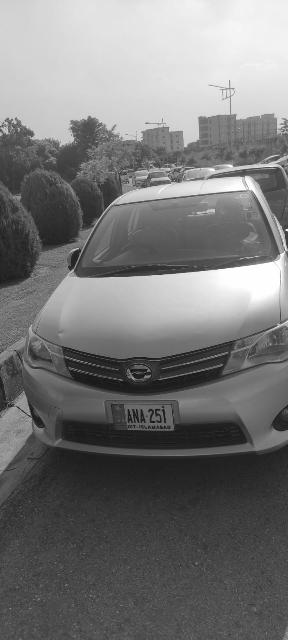Number: (126, 407, 168, 424)
